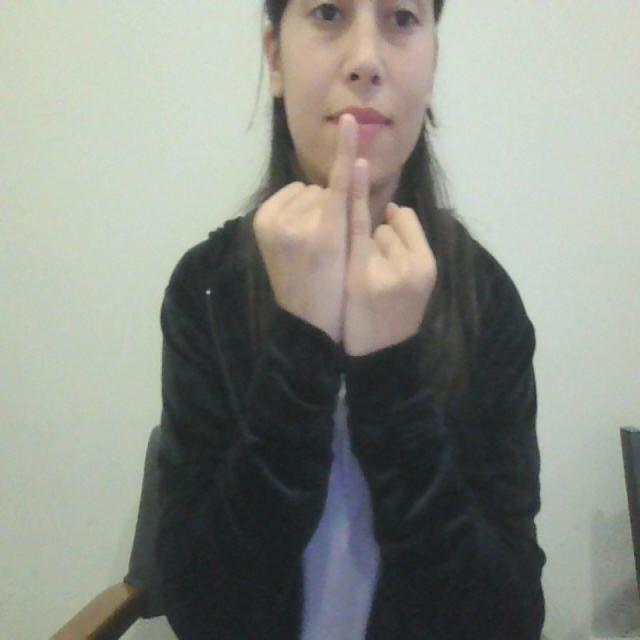Kardes: (250, 109, 442, 364)
